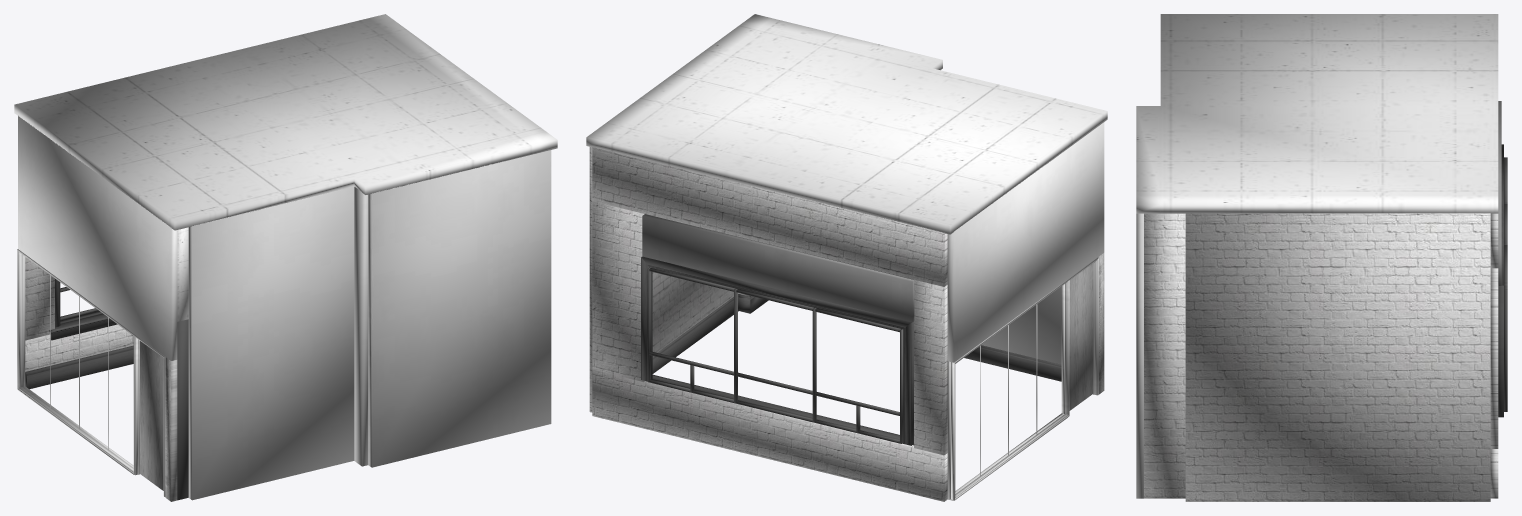
Rendered from YCR_eleVR_Room_14_Structure.obj.
3 views of the same model, side by side, from view 1: azimuth 30°, elevation 25°; view 2: azimuth 150°, elevation 25°; view 3: azimuth 270°, elevation 25° (orthographic). The views are drawn at different scales.
Bounding box in the file's own units: 688 × 500 × 565.
Materials: 1 (1 with a texture image).
